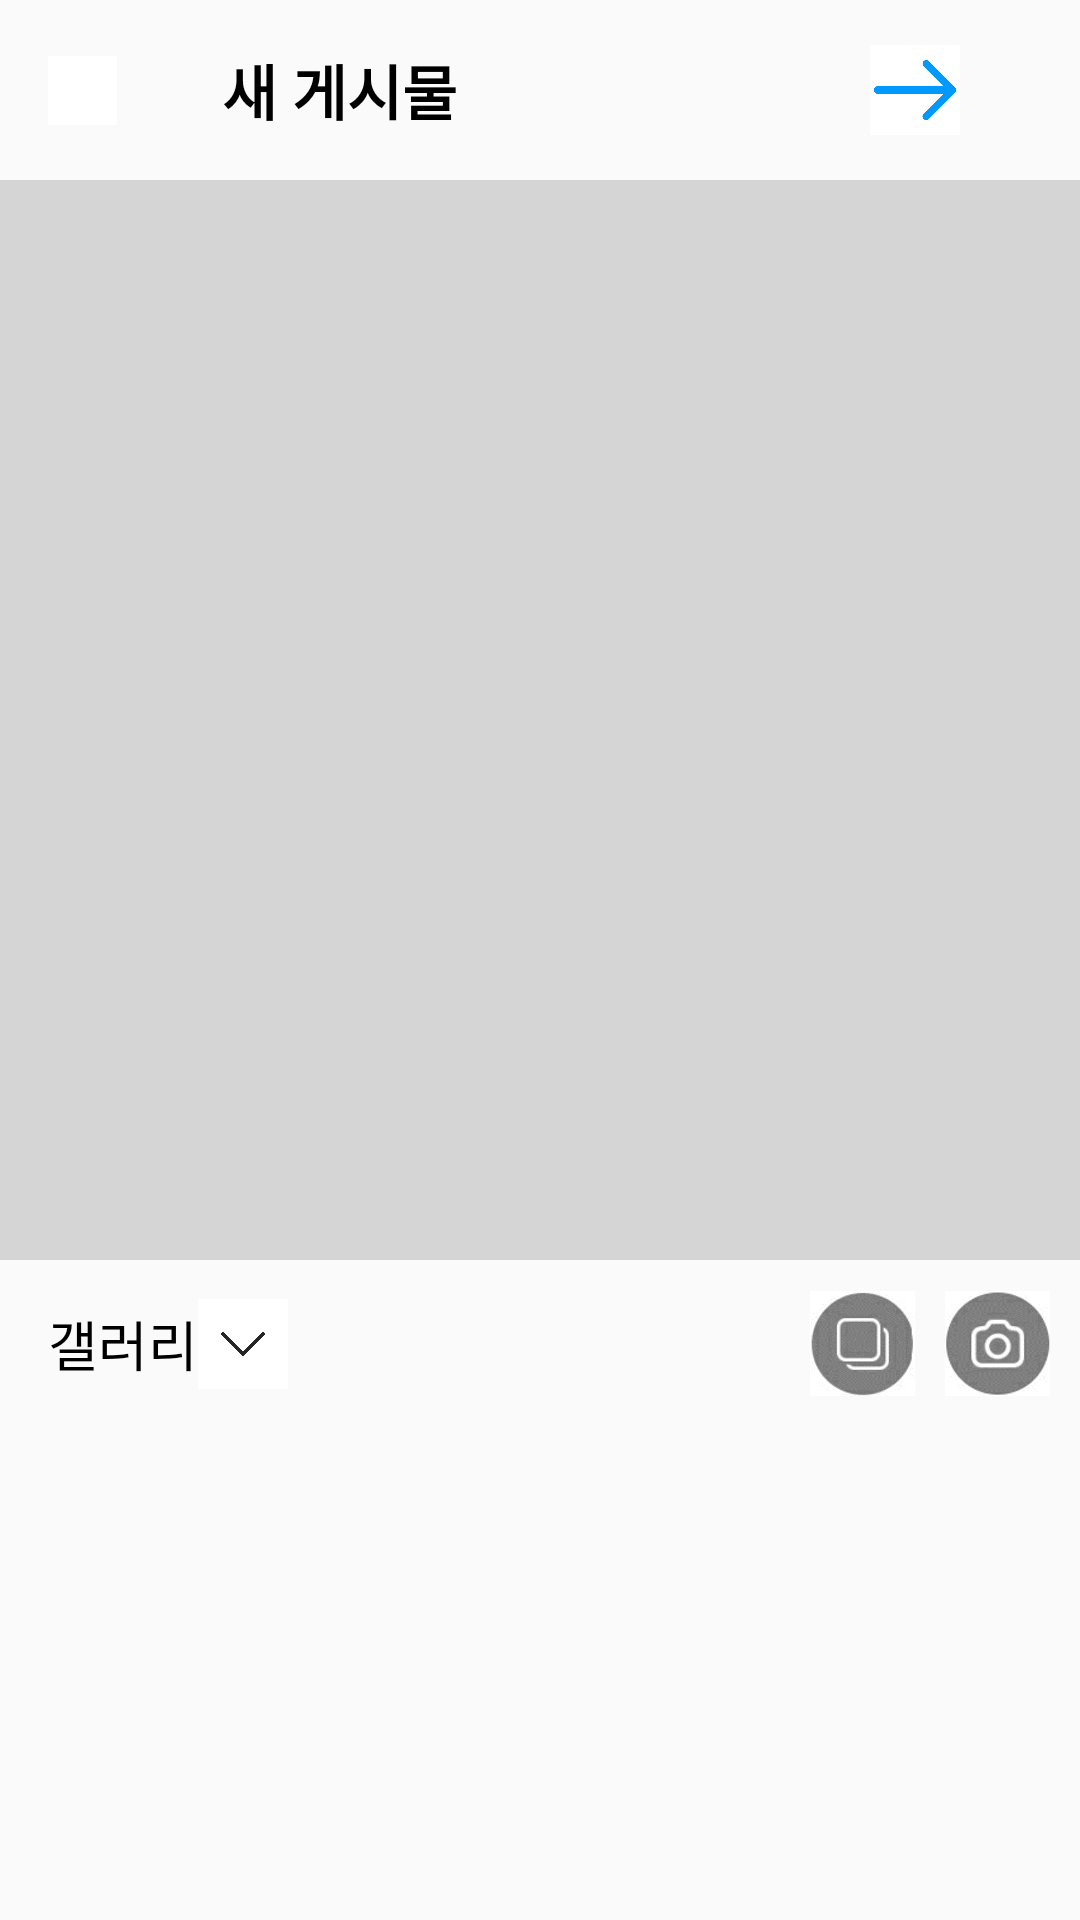

Where icons sit on this 1080×1920 app screen, as (x1, y1, x2, y2):
arrow down: (221, 1332, 265, 1356)
arrow right: (874, 60, 956, 120)
camera: (946, 1292, 1050, 1395)
